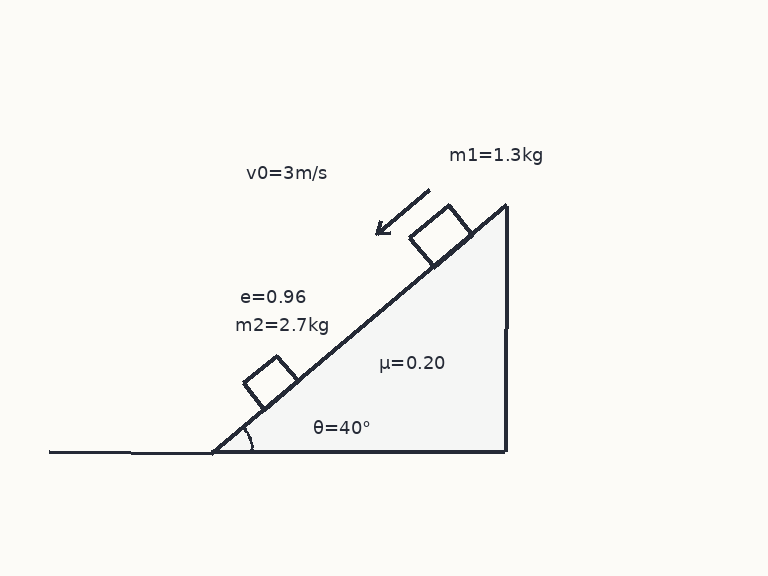block: (407, 203, 474, 268), (241, 354, 299, 411)
ramp: (210, 203, 508, 454)
